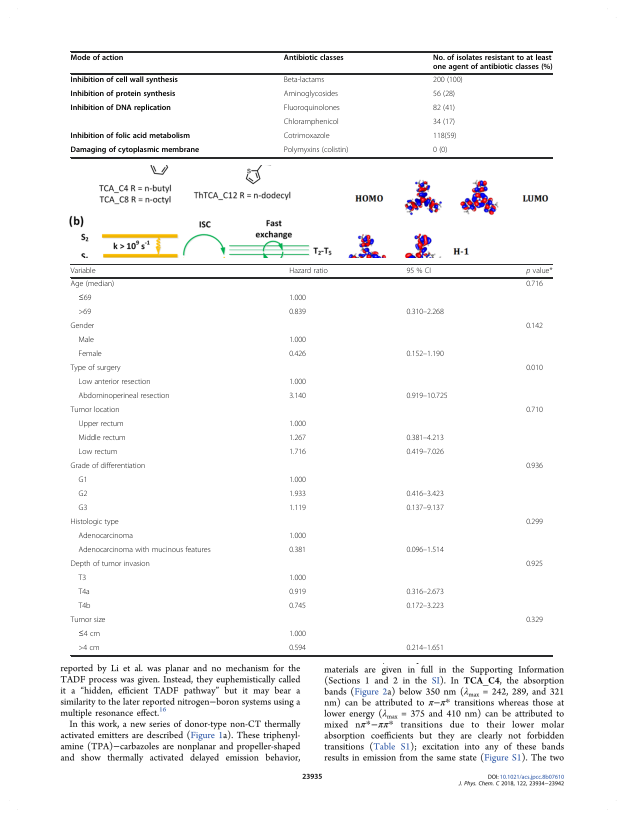borderless: (69, 263, 552, 655), (69, 50, 552, 157)
cell: (432, 54, 553, 72), (77, 546, 211, 556), (70, 146, 200, 156), (70, 132, 191, 142), (70, 76, 179, 86), (70, 90, 176, 100), (70, 104, 172, 114), (77, 392, 170, 402), (69, 560, 151, 570), (69, 462, 146, 472), (77, 378, 151, 388), (283, 146, 349, 156), (283, 104, 341, 114), (77, 532, 134, 542), (283, 90, 339, 100), (283, 118, 339, 128), (283, 54, 345, 63), (70, 364, 121, 374), (69, 518, 120, 528), (70, 406, 120, 416), (77, 434, 127, 444), (70, 54, 124, 63), (283, 132, 330, 142), (77, 420, 124, 430), (70, 280, 115, 290), (405, 392, 448, 402), (283, 76, 325, 86), (77, 448, 118, 458), (405, 308, 445, 318), (405, 350, 445, 360), (405, 434, 445, 444), (405, 448, 445, 458), (405, 490, 445, 500), (405, 504, 445, 514), (405, 546, 445, 556), (405, 588, 445, 598), (405, 602, 445, 612), (405, 644, 445, 654), (69, 616, 106, 626), (288, 267, 329, 276), (432, 76, 463, 86), (77, 350, 103, 360), (525, 267, 553, 276), (432, 132, 457, 142), (70, 322, 95, 332), (405, 267, 432, 276), (432, 90, 456, 100), (432, 104, 456, 114), (432, 118, 456, 128), (77, 630, 101, 640), (70, 267, 96, 276), (77, 644, 100, 654), (525, 280, 544, 290), (288, 294, 307, 304), (288, 308, 307, 318), (525, 322, 544, 332), (288, 336, 307, 346), (288, 350, 307, 360), (525, 364, 544, 374), (288, 378, 307, 388), (288, 392, 307, 402), (525, 406, 544, 416), (288, 420, 307, 430), (288, 434, 307, 444), (288, 448, 307, 458), (525, 462, 544, 472), (288, 476, 307, 486), (288, 490, 307, 500), (288, 504, 307, 514), (525, 518, 544, 528), (288, 532, 307, 542), (288, 546, 307, 556), (525, 560, 544, 570), (288, 574, 307, 584), (288, 588, 307, 598), (288, 602, 307, 612), (525, 616, 544, 626), (288, 630, 307, 640), (288, 644, 307, 654), (77, 336, 95, 346), (432, 146, 448, 156), (77, 294, 92, 304), (77, 308, 92, 318), (77, 588, 91, 598), (77, 602, 91, 612), (77, 476, 88, 486), (77, 490, 88, 500), (77, 504, 88, 514), (77, 574, 87, 584)
